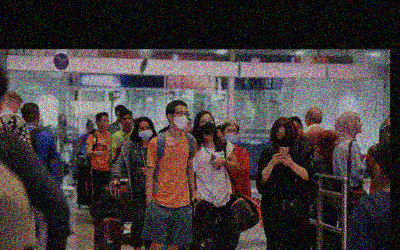with_mask: (172, 109, 190, 131), (199, 117, 215, 136), (275, 131, 292, 148), (138, 124, 154, 141), (224, 128, 239, 144), (58, 116, 66, 126)
without_mask: (121, 115, 133, 128), (99, 117, 109, 130), (357, 115, 363, 134), (183, 119, 190, 132), (216, 129, 224, 140)
